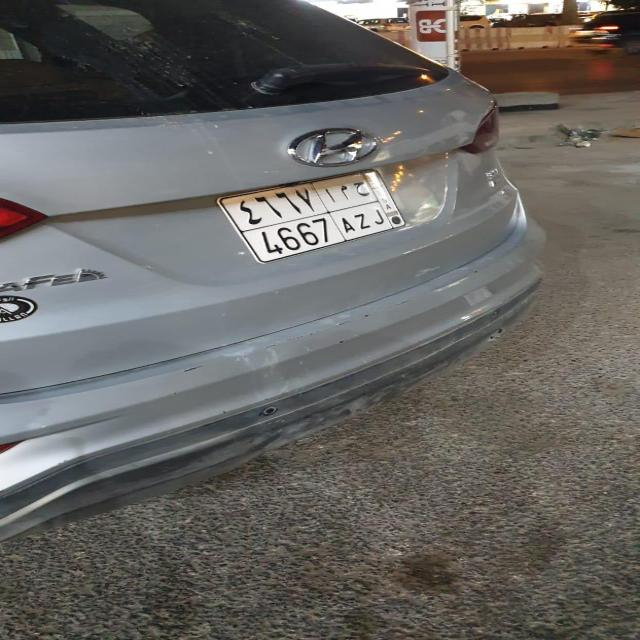license_plate: (214, 168, 410, 266)
